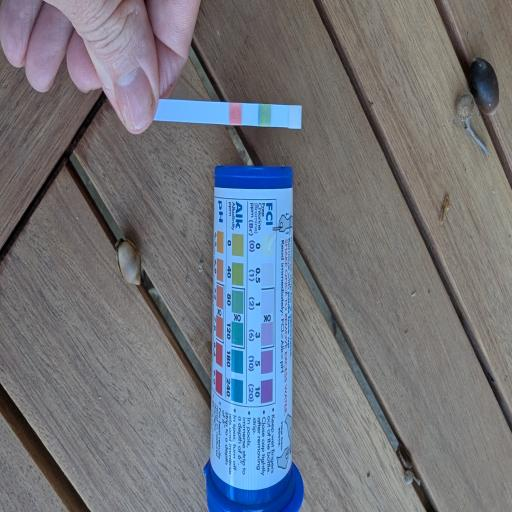label: (209, 164, 295, 497)
strip: (153, 98, 303, 129)
